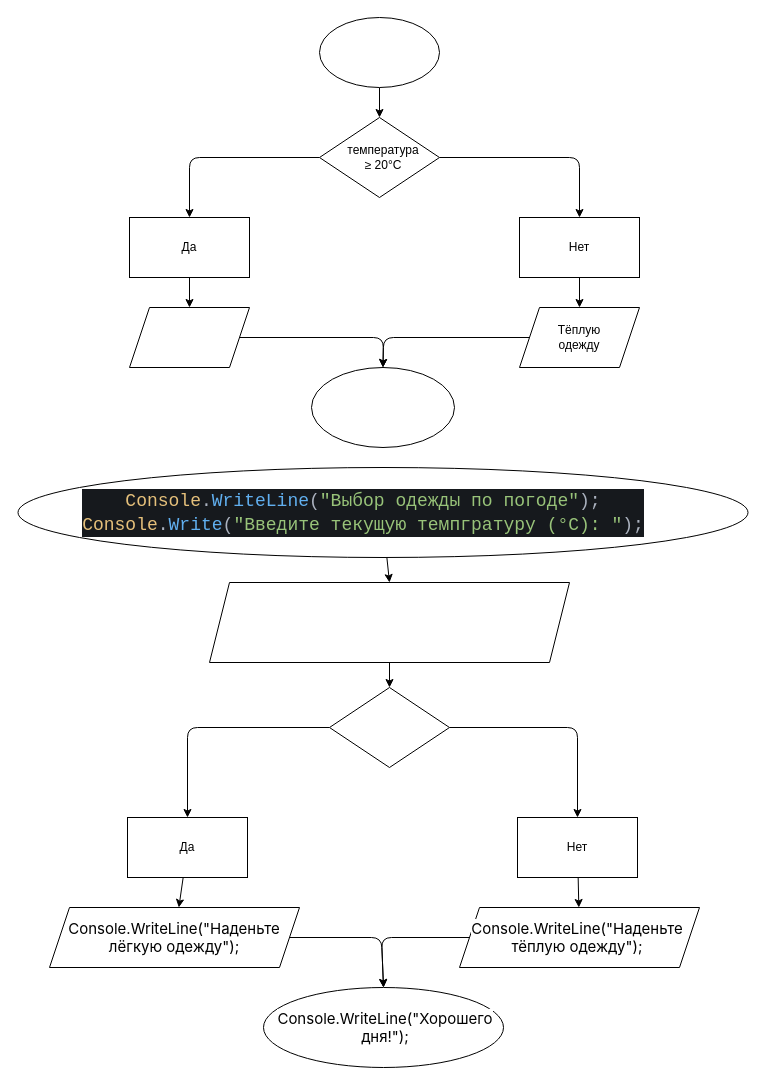
Some shapes in this 765 by 1085 pixel diagram are drawn without their labels. The centre of each missing label's shape, as x and y in pixels:
"if (temperature >= 20)" belongs at point 389,727.
"temperature = Convert. ToInt32(Console.ReadLine());" belongs at point 389,622.
"Конец" belongs at point 382,407.
"Лёгкая одежда" belongs at point 189,337.
"Начало" belongs at point 379,52.
